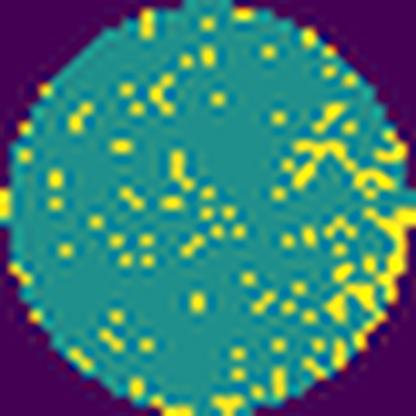Edge-Loc: (359, 202, 415, 308), (324, 274, 388, 350)
